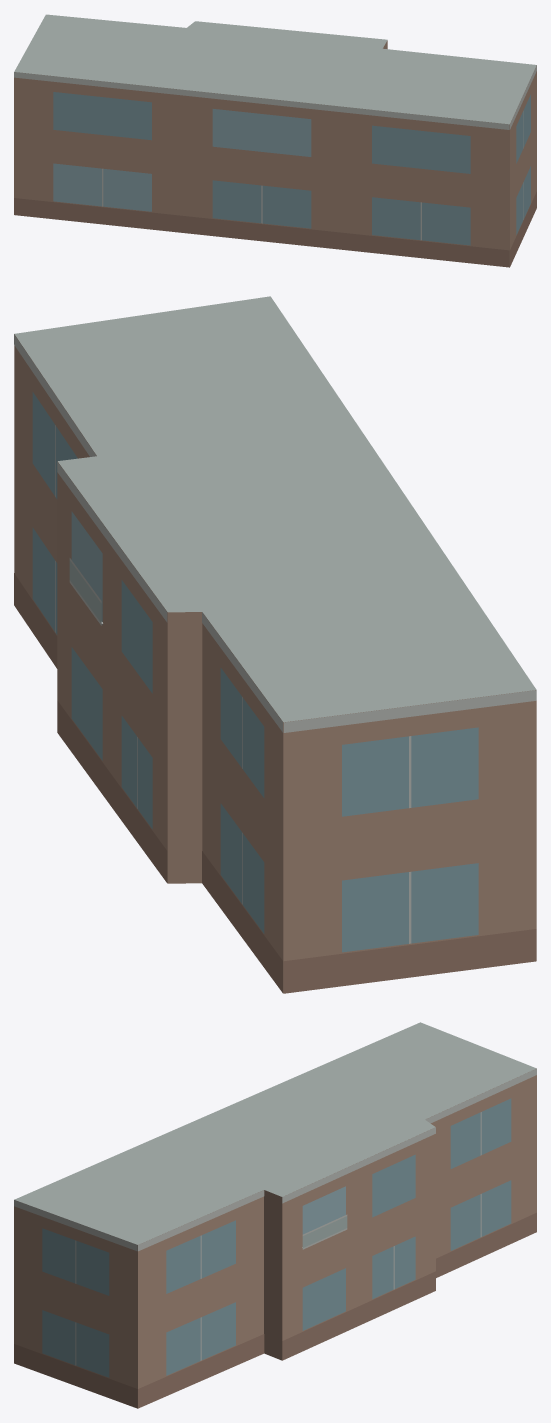
File: survey-upis-32640978.glb
3 renders of one model, top to bottom at view 1: azimuth 30°, elevation 25°; view 2: azimuth 150°, elevation 25°; view 3: azimuth 270°, elevation 25°, orthographic. The views are drawn at different scales.
Parts seen in each view (by area): view 1: survey-upis-32640978.tmp; view 2: survey-upis-32640978.tmp; view 3: survey-upis-32640978.tmp.
Part boxes in pixels (x1,y1,x2,y2): survey-upis-32640978.tmp: (14,14,536,267); survey-upis-32640978.tmp: (14,296,536,993); survey-upis-32640978.tmp: (14,1022,536,1408).
Bounding box in the file's own units: 17.81 × 6.1 × 17.67.
